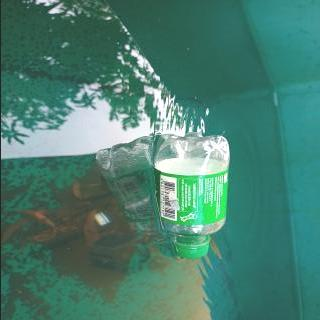bottle: (157, 132, 238, 260)
